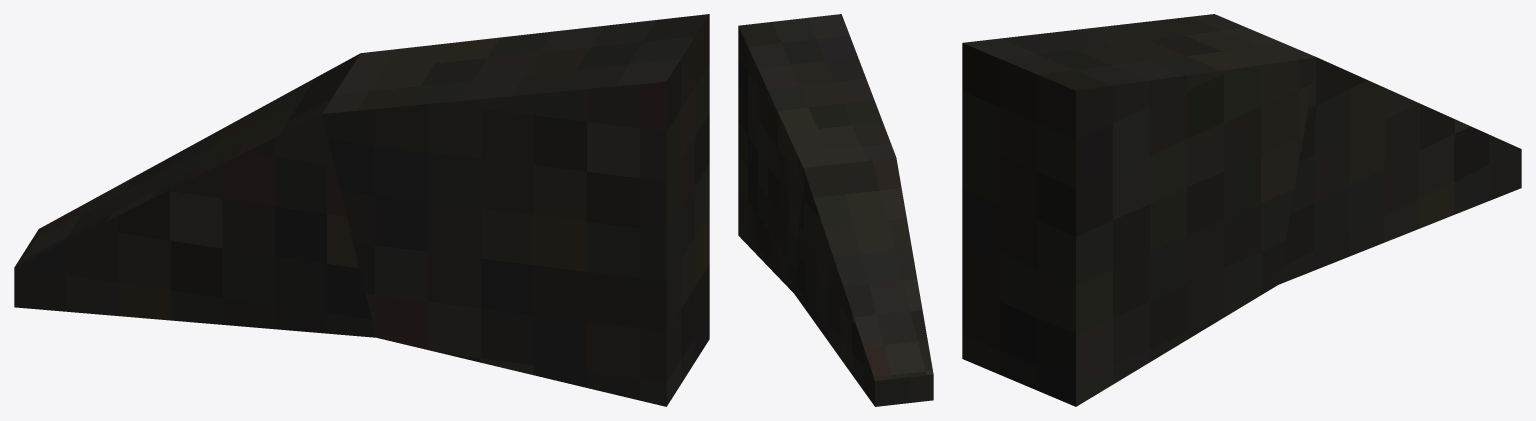
Rendered from horizontal_spike_small.obj.
3 renders of one model, left to right at view 1: azimuth 30°, elevation 25°; view 2: azimuth 150°, elevation 25°; view 3: azimuth 270°, elevation 25°, orthographic. The views are drawn at different scales.
Parts seen in each view (by area): view 1: cuboid; view 2: cuboid; view 3: cuboid.
Boxes of the visible parts, x1,y1,x2,y2 form: cuboid: (14, 14, 709, 406); cuboid: (738, 14, 933, 406); cuboid: (962, 14, 1521, 406).
Size of the model in its own units: 0.6519 by 0.4062 by 0.6519.
